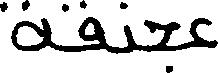X: (0, 0, 49, 55), (144, 15, 178, 72), (78, 0, 103, 56), (192, 13, 217, 52), (124, 0, 134, 57)
